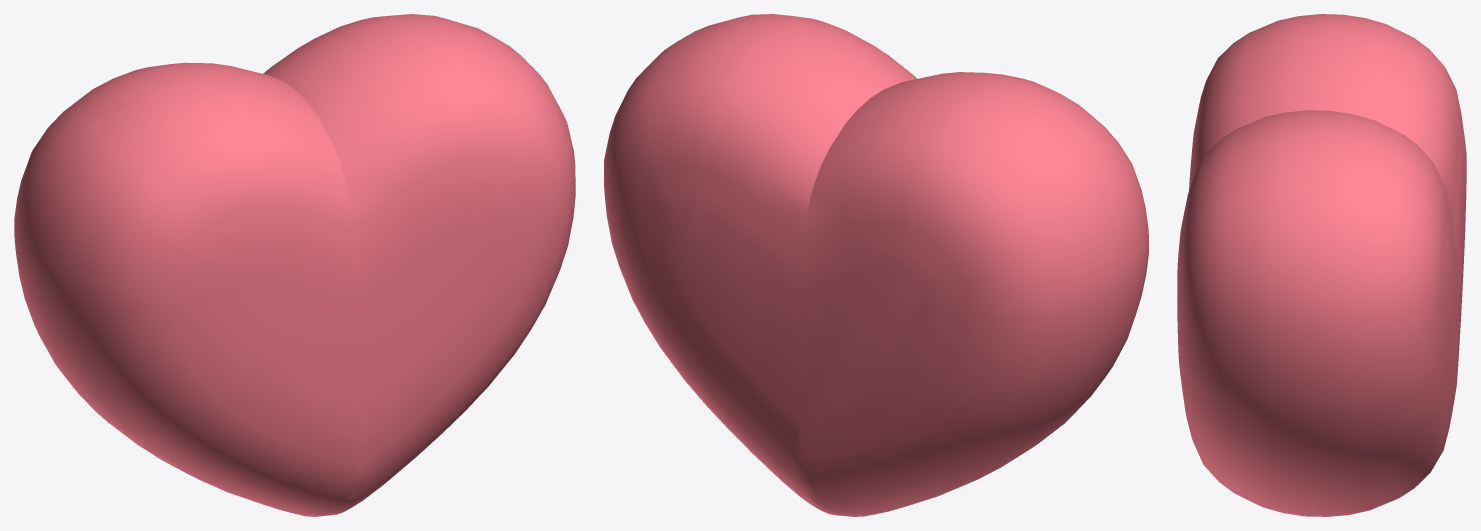
Rendered from heart.glb.
3 renders of one model, left to right at view 1: azimuth 30°, elevation 25°; view 2: azimuth 150°, elevation 25°; view 3: azimuth 270°, elevation 25°, orthographic. The views are drawn at different scales.
Visible parts, largest first — view 1: Layer0_001; view 2: Layer0_001; view 3: Layer0_001.
Boxes of the visible parts, box(x1,y1,x2,y2) form: Layer0_001: box(14, 14, 575, 516); Layer0_001: box(604, 14, 1148, 516); Layer0_001: box(1177, 14, 1466, 516).
Bounding box in the file's own units: 4 × 3.37 × 2.05.
